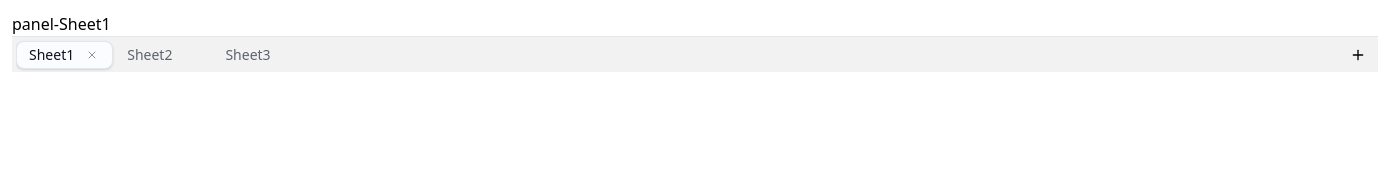
<DynamicTab /> › adds a new tab and lands in rename mode on the new tab
The image size is (1378, 172).
Click the button named "add tab" at [1358, 54], box [1342,38,1374,70]
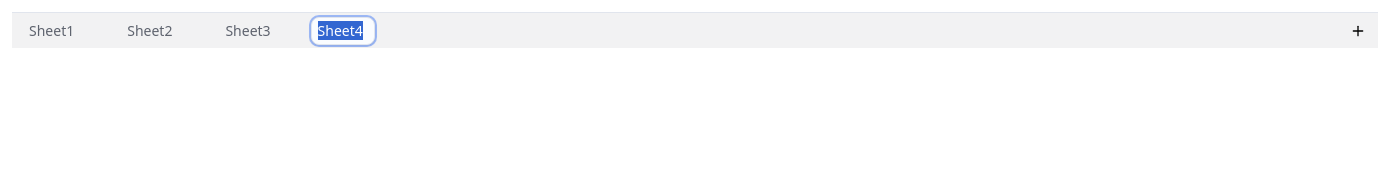
Now the field showing "Sheet4" is shown, box [311,16,375,44]
